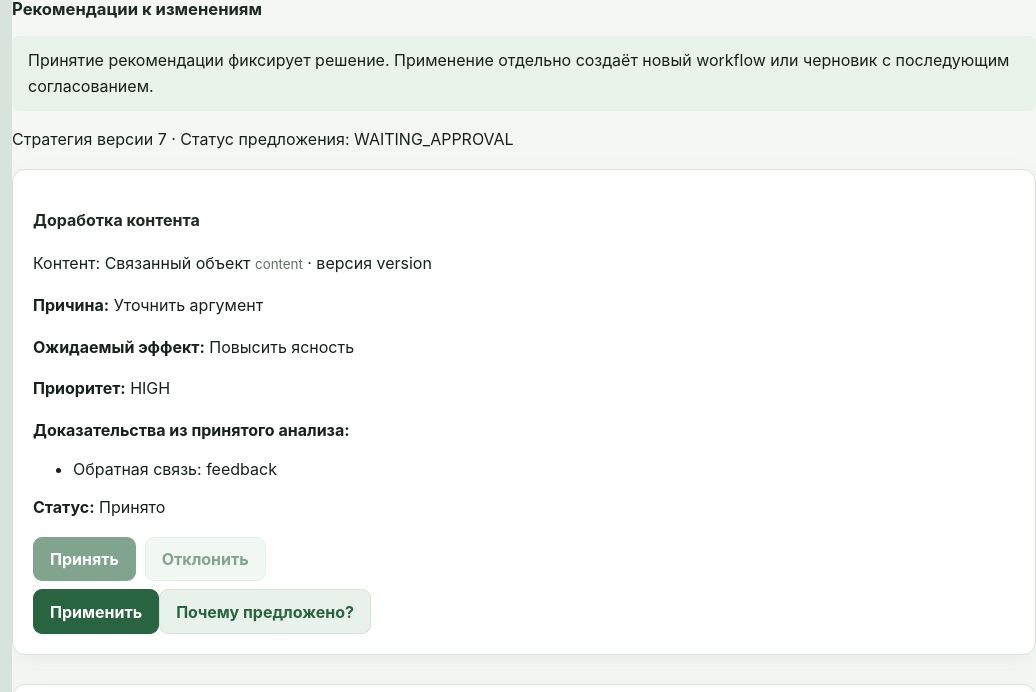
Test case: applies once and links artifact without auto approval
Check: the heading "Рекомендации к изменениям" is shown, box [12,0,262,19]
Click the button "Применить" at (96, 612), box [33,589,159,634]
(page scrolled)
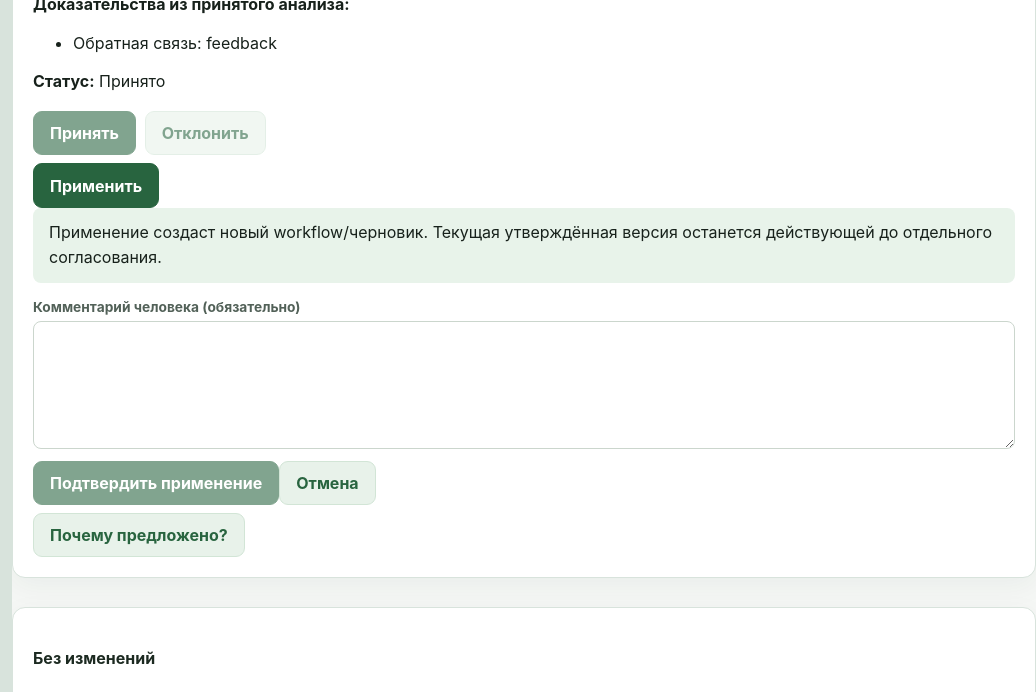
Type "Human" into the text box at (524, 385), box [33,321,1015,449]
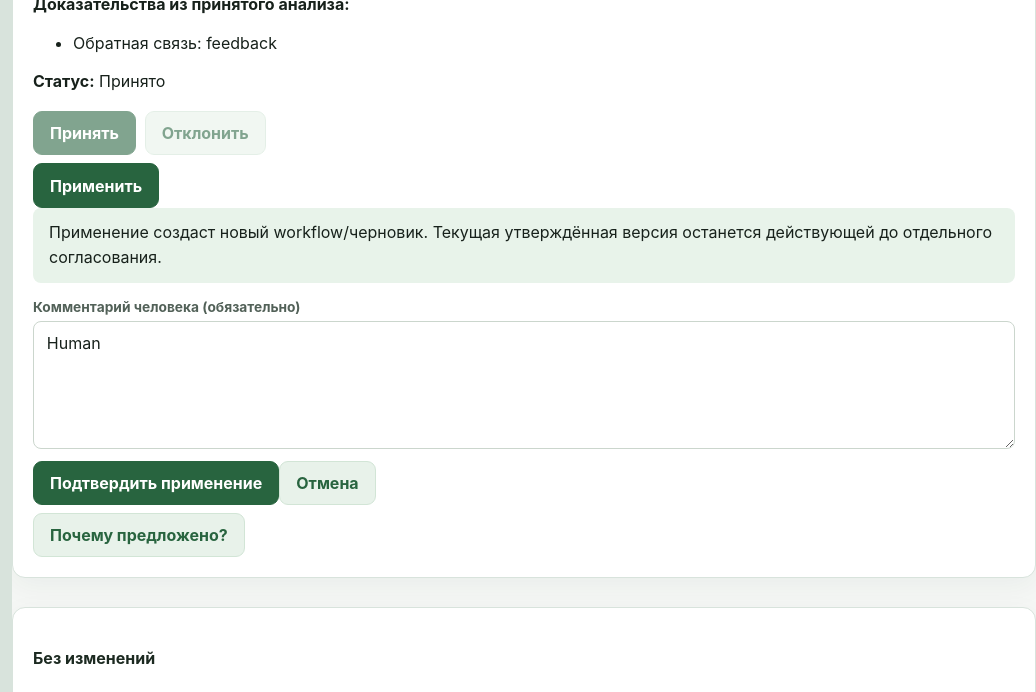
Click the button "Подтвердить применение" at (156, 483), box [33,461,279,505]
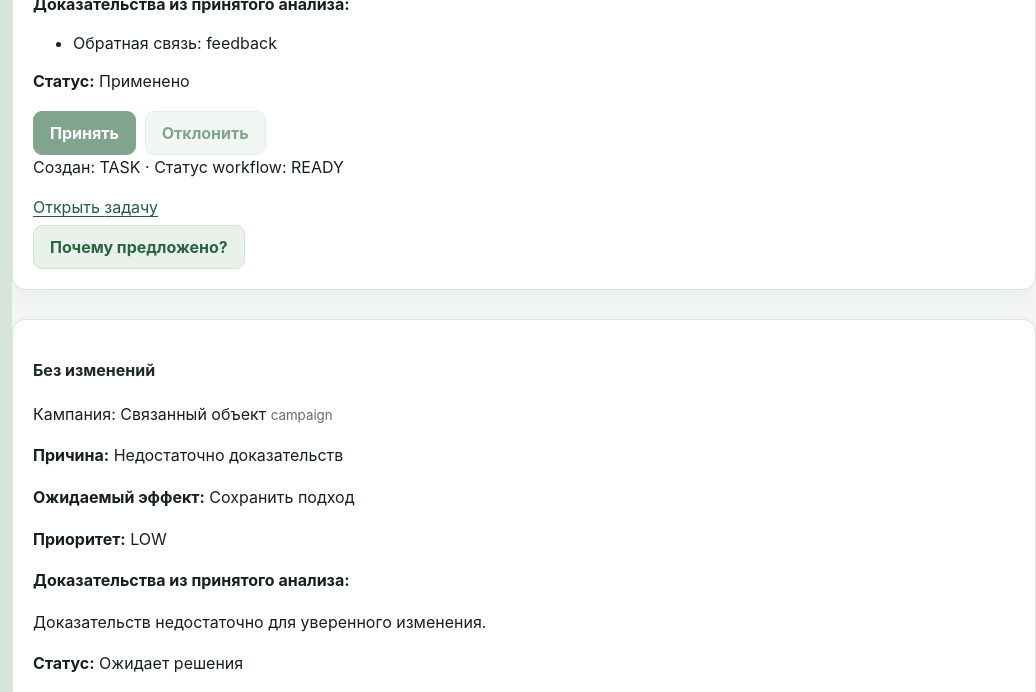
Check: the link "Открыть задачу" is shown, box [33,197,158,217]
Check: the text "Создан: TASK · Статус workflow: READY" is shown, box [33,157,344,177]
Check: the button "Применить" is gone
